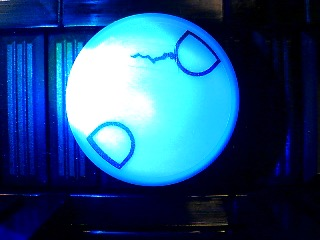CRACK: (65, 12, 240, 186)
